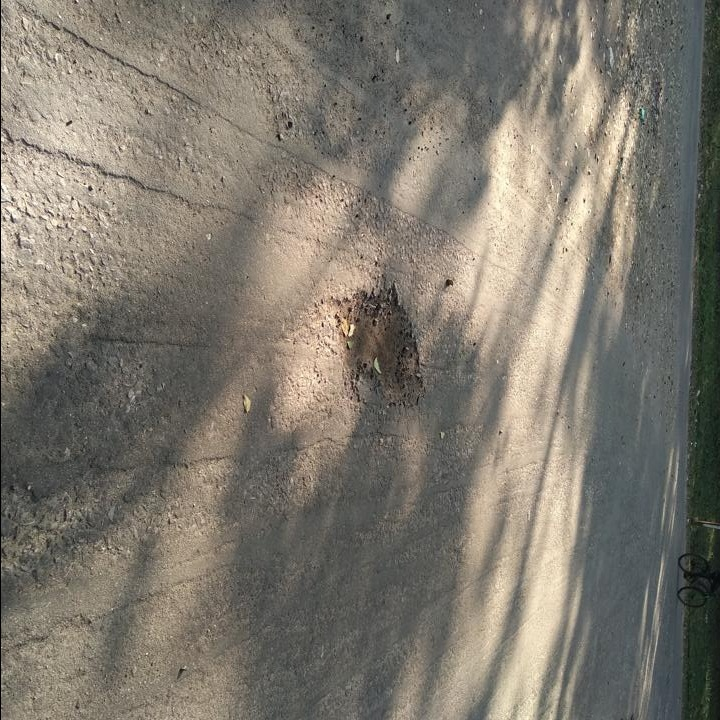pothole: (324, 275, 428, 415)
